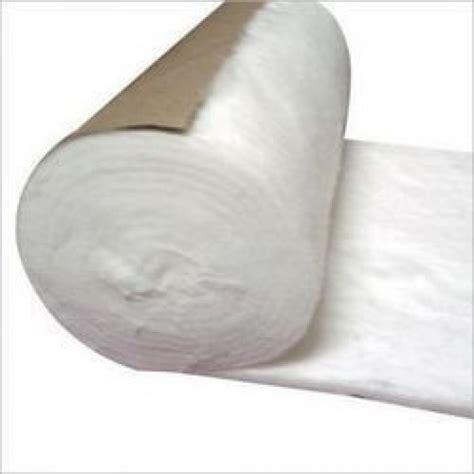cotton: (23, 31, 474, 417)
